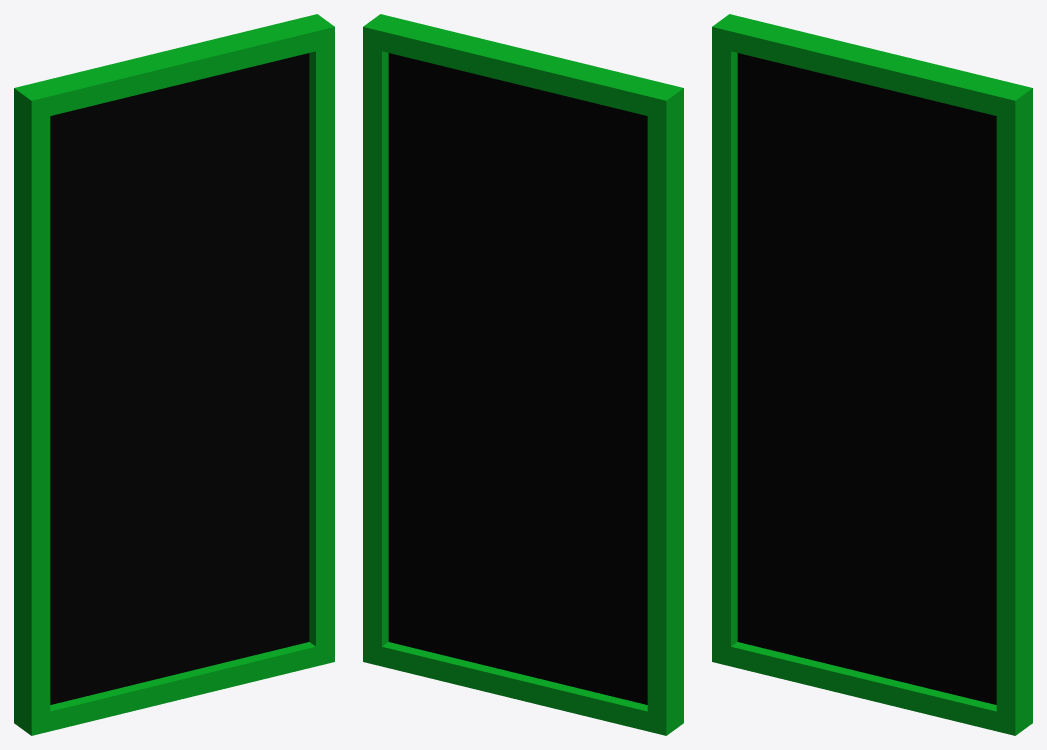
The model's file is ExitPortal.fbx.
3 renders of one model, left to right at view 1: azimuth 30°, elevation 25°; view 2: azimuth 150°, elevation 25°; view 3: azimuth 330°, elevation 25°, orthographic.
Parts seen in each view (by area): view 1: default; view 2: default; view 3: default.
Part boxes in pixels (left/top/right/bottom): default: left=14, top=14, right=334, bottom=735; default: left=363, top=14, right=683, bottom=735; default: left=712, top=14, right=1032, bottom=735.
Bounding box in the file's own units: 40 × 80 × 4.
